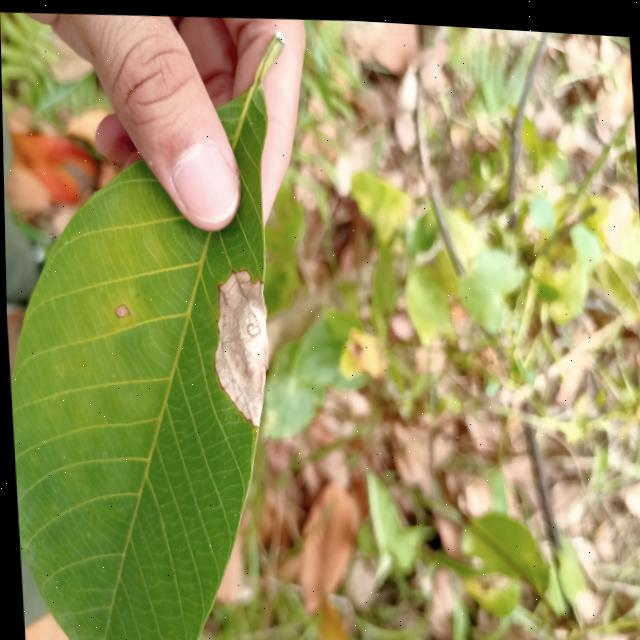Colletotrichum: (243, 317, 260, 334)
Leaf-Blight: (207, 263, 271, 426)
